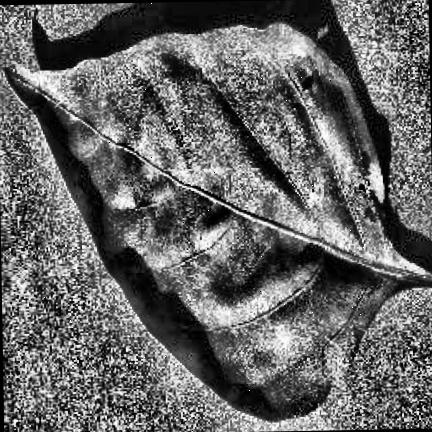leaf: (6, 17, 432, 418)
